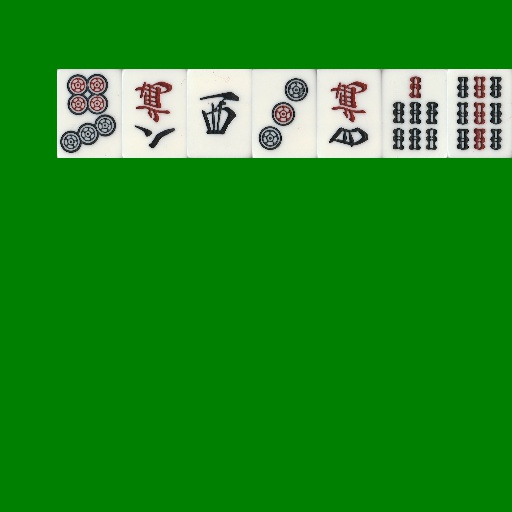3p: (252, 69, 317, 158)
4m: (317, 69, 382, 158)
7p: (57, 69, 122, 158)
7s: (382, 69, 447, 158)
8m: (122, 69, 187, 158)
9s: (447, 69, 512, 158)
west: (187, 69, 252, 158)
